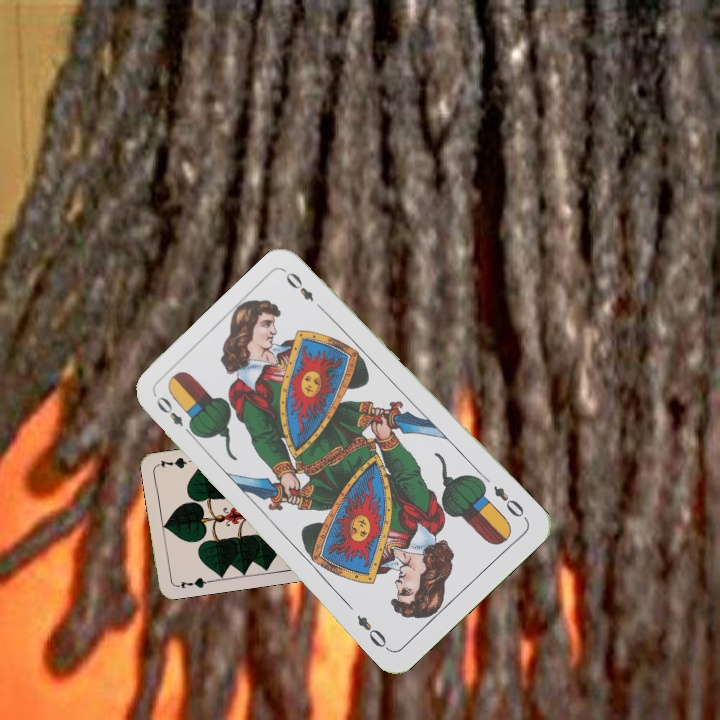EO: (151, 392, 198, 440), (489, 481, 527, 520)
G7: (172, 574, 213, 591)
